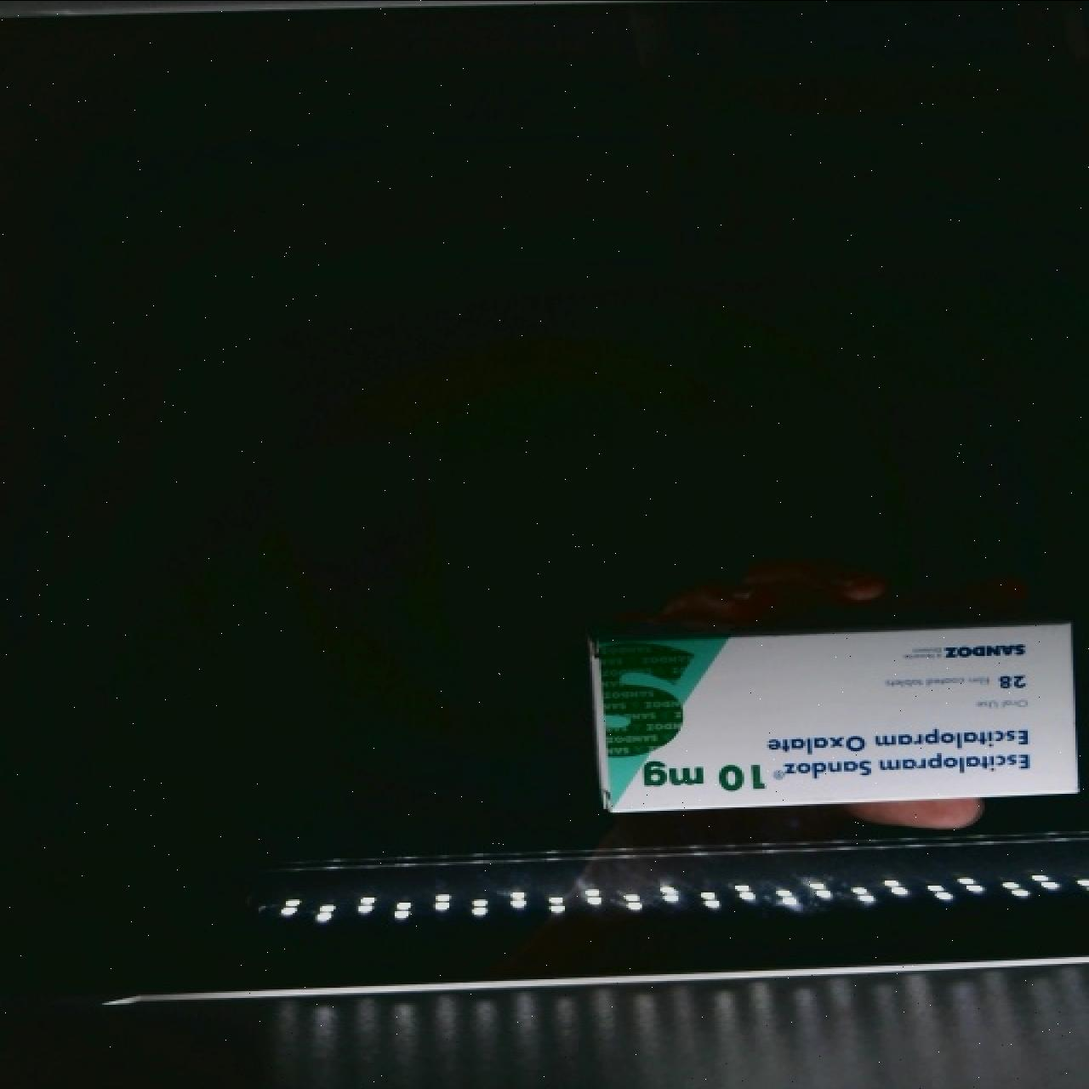medicine_label_obb: (756, 709, 1051, 797)
